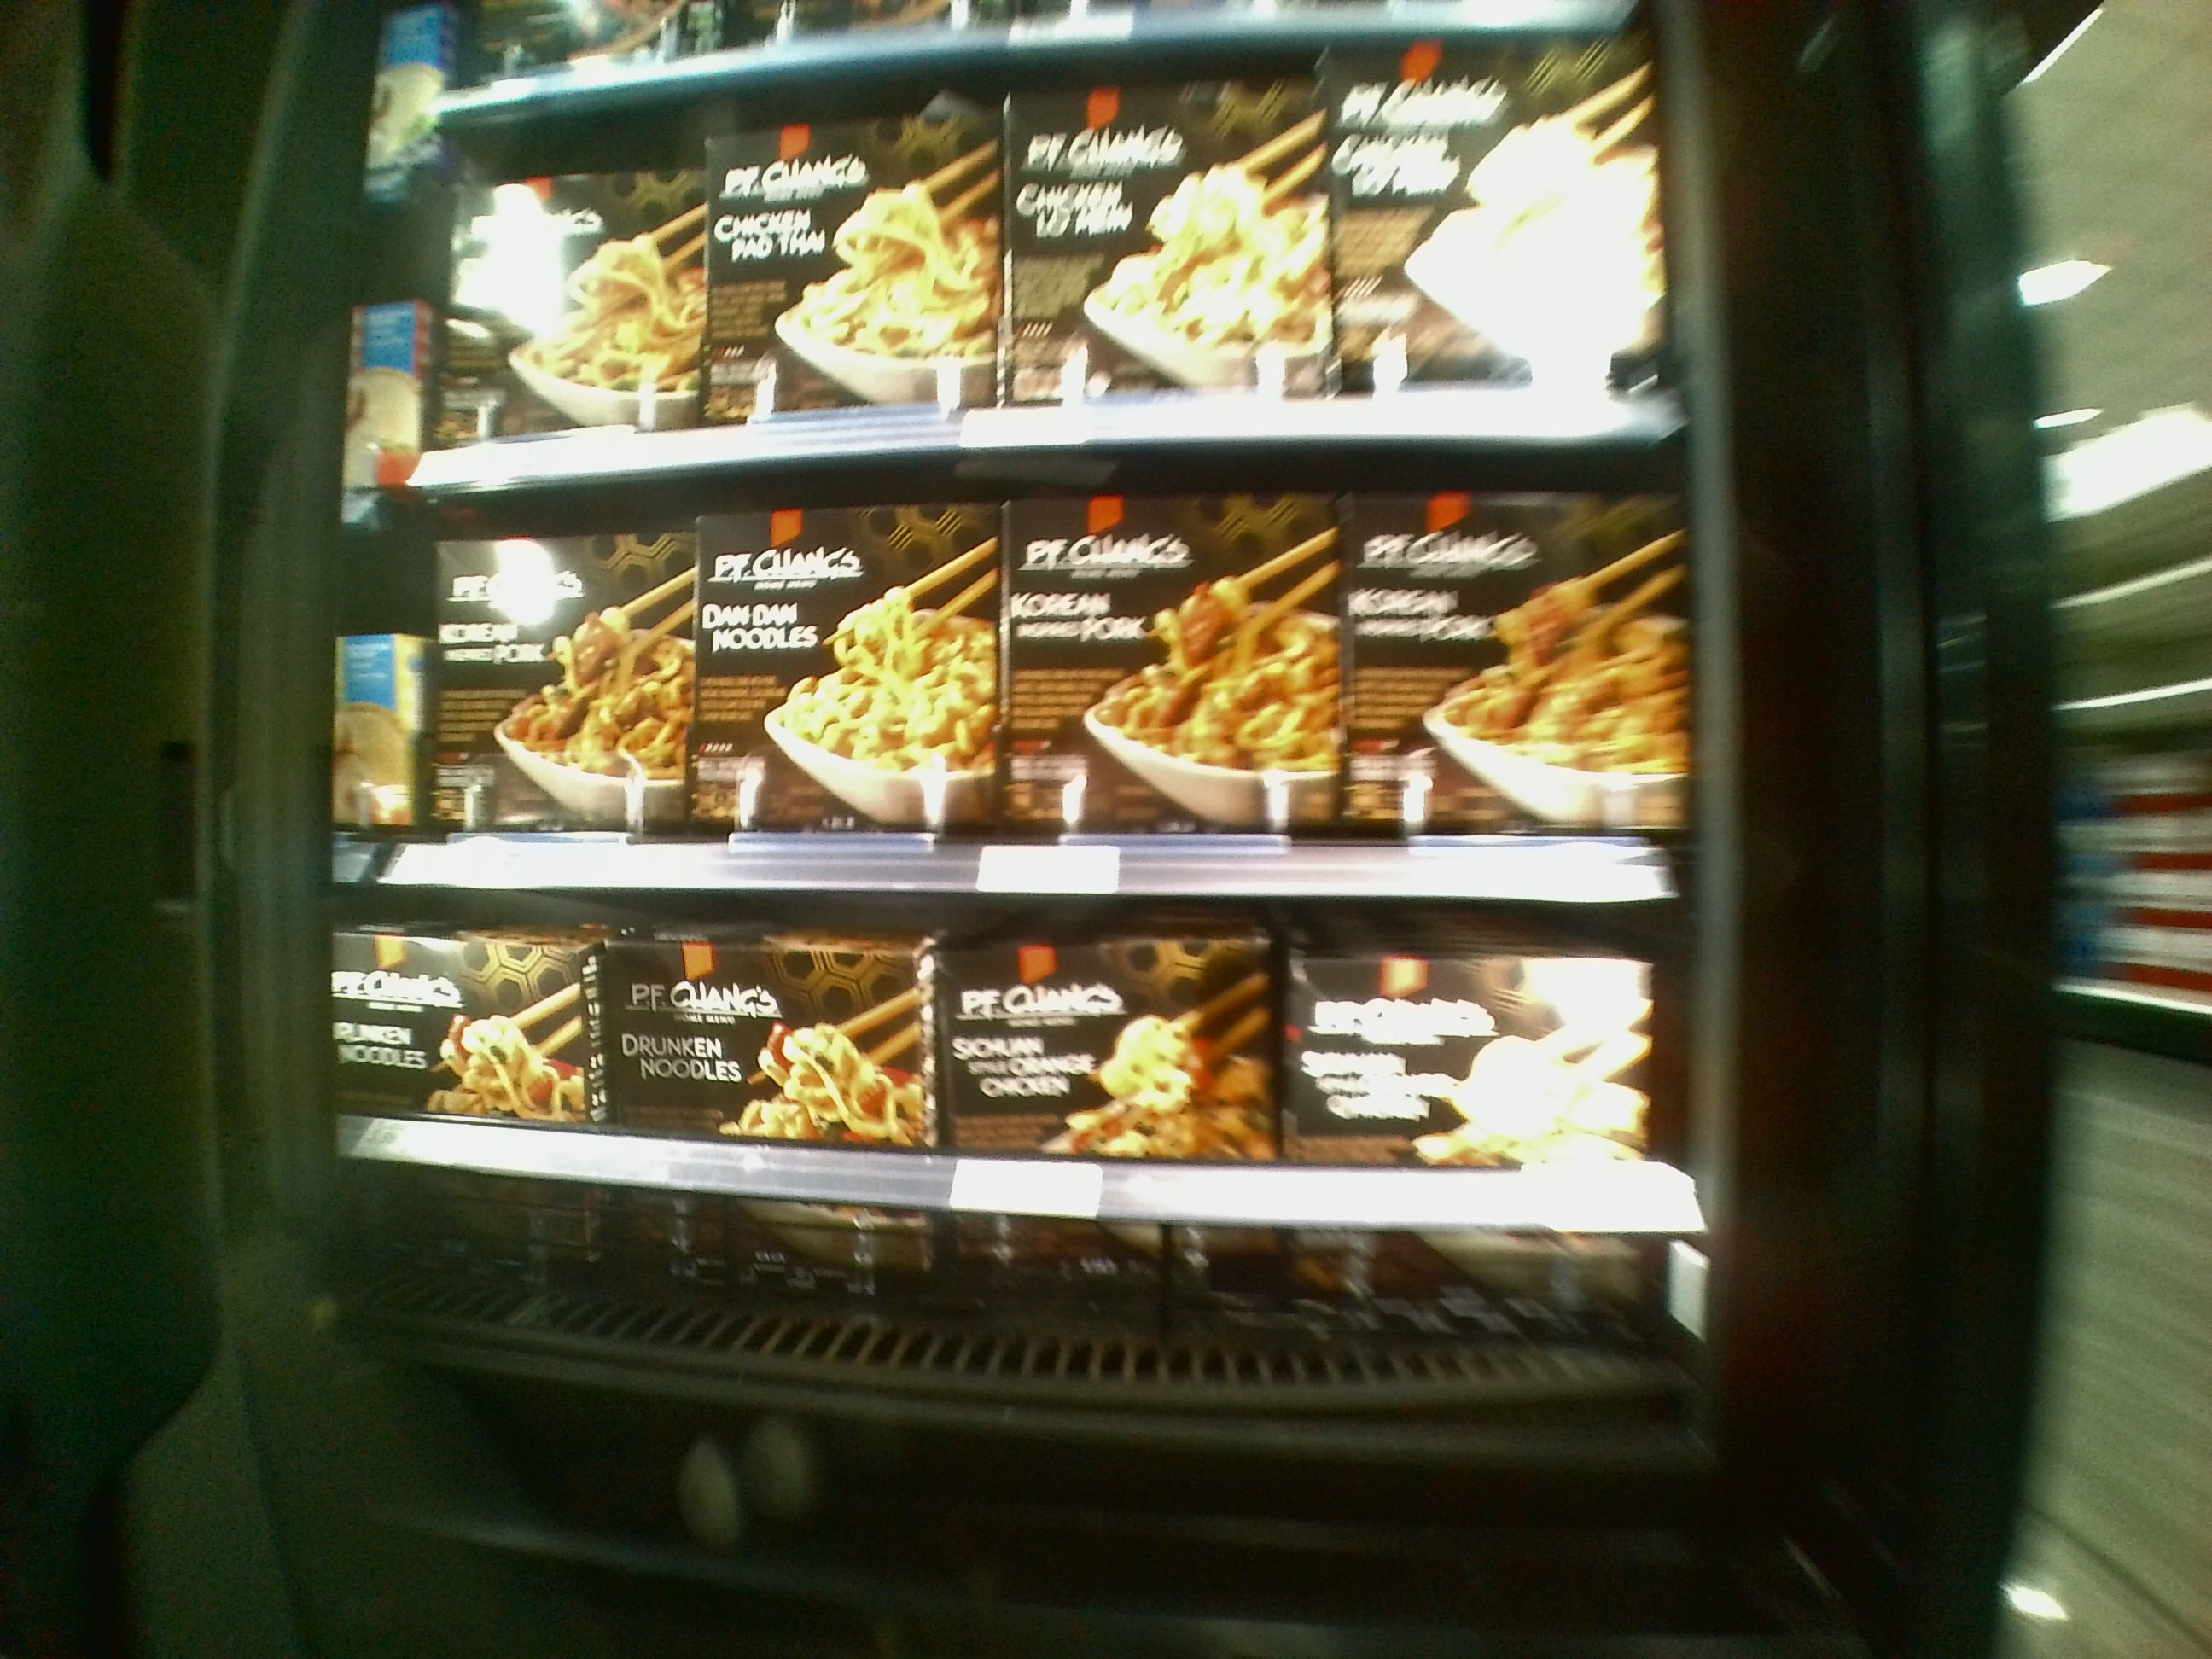shelf: (336, 863, 1698, 1401), (338, 457, 1686, 903)
